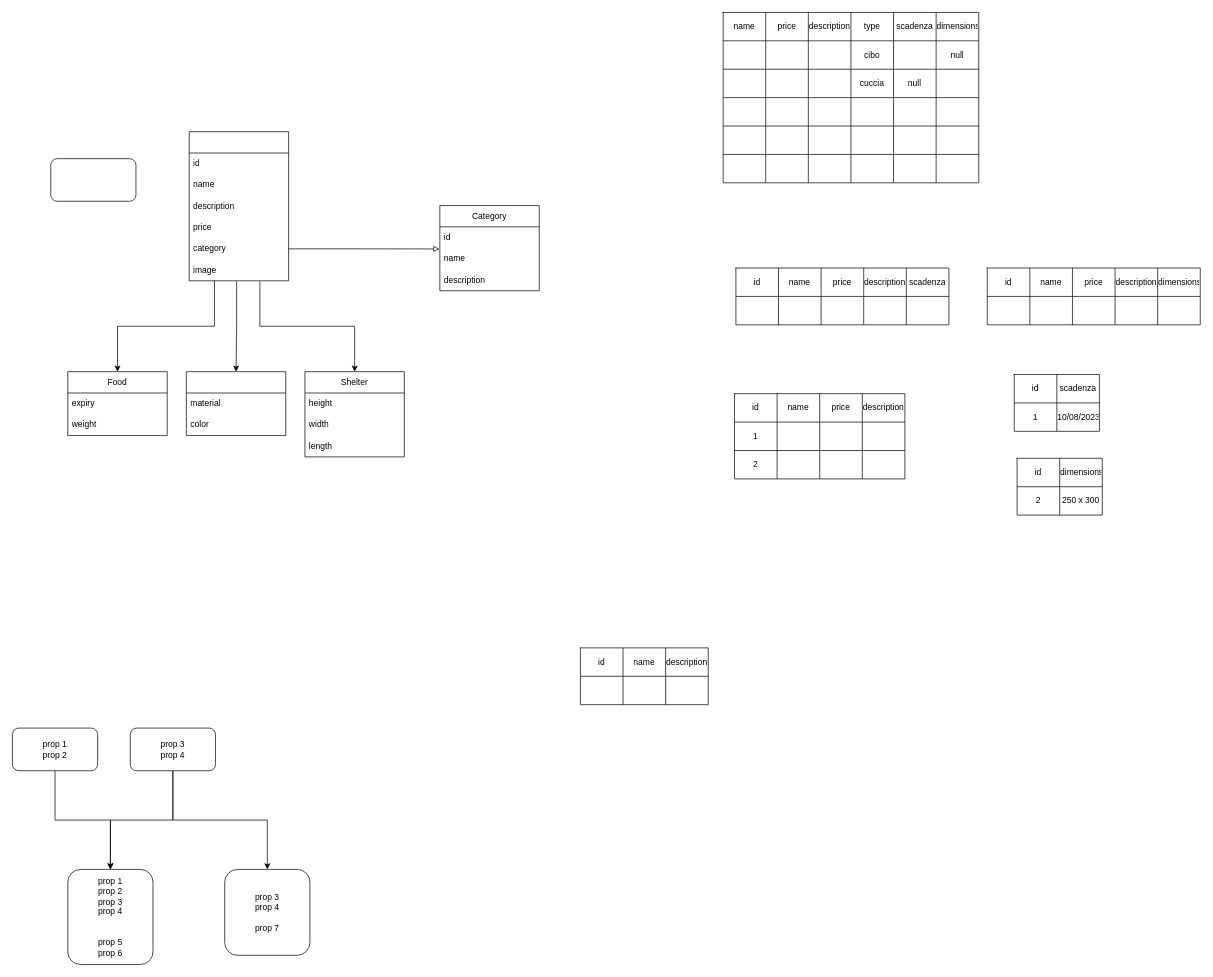
Image size: 1213x977. Some labels were removed from this diagram. The box of each missing label's shape, as (x1, y1, x2, y2) in pixels:
printCard(): (50, 158, 136, 201)
Product: (189, 131, 289, 281)
Toy: (186, 371, 286, 436)
